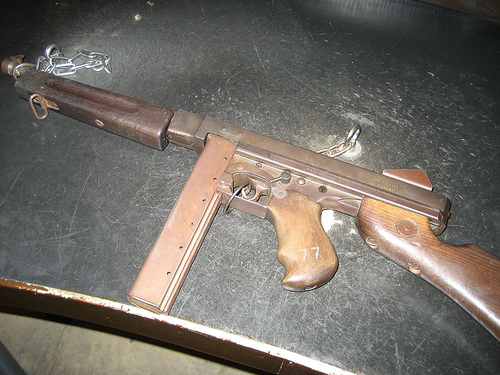rifle: (11, 36, 495, 347)
